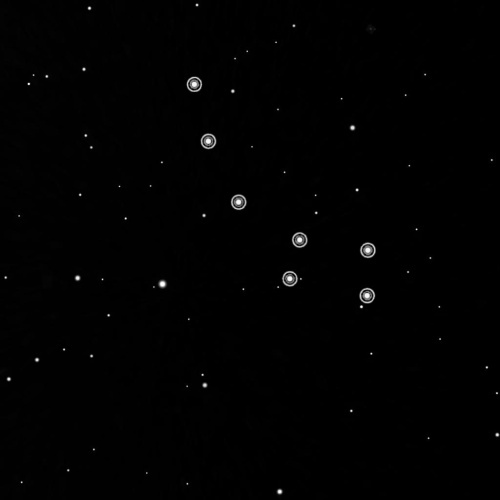ursa_minor: (181, 69, 384, 311)
